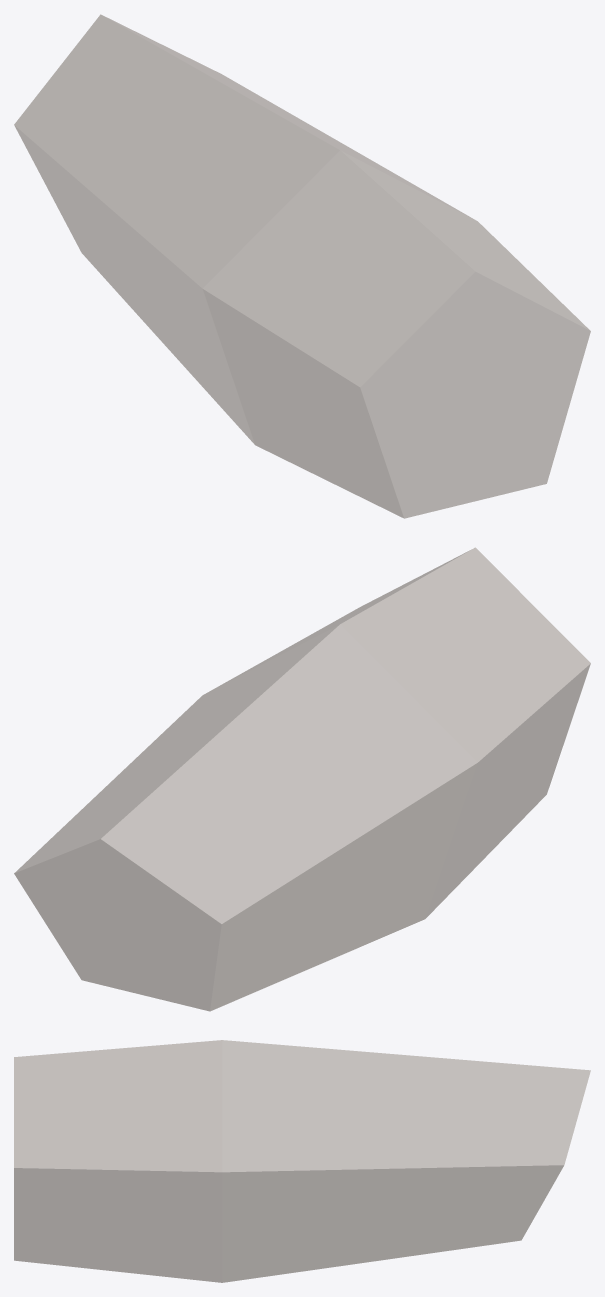
File: windmill-head.glb
3 views of the same model, one above another, from view 1: azimuth 30°, elevation 25°; view 2: azimuth 150°, elevation 25°; view 3: azimuth 270°, elevation 25° (orthographic). The views are drawn at different scales.
Parts seen in each view (by area): view 1: windmill-head; view 2: windmill-head; view 3: windmill-head.
Boxes of the visible parts, bbox=[...] form: windmill-head: bbox=[14, 14, 590, 518]; windmill-head: bbox=[14, 547, 590, 1011]; windmill-head: bbox=[14, 1040, 590, 1282].
Bounding box in the file's own units: 1.24 × 1.18 × 2.92.
Materials: 1 (1 with a texture image).
